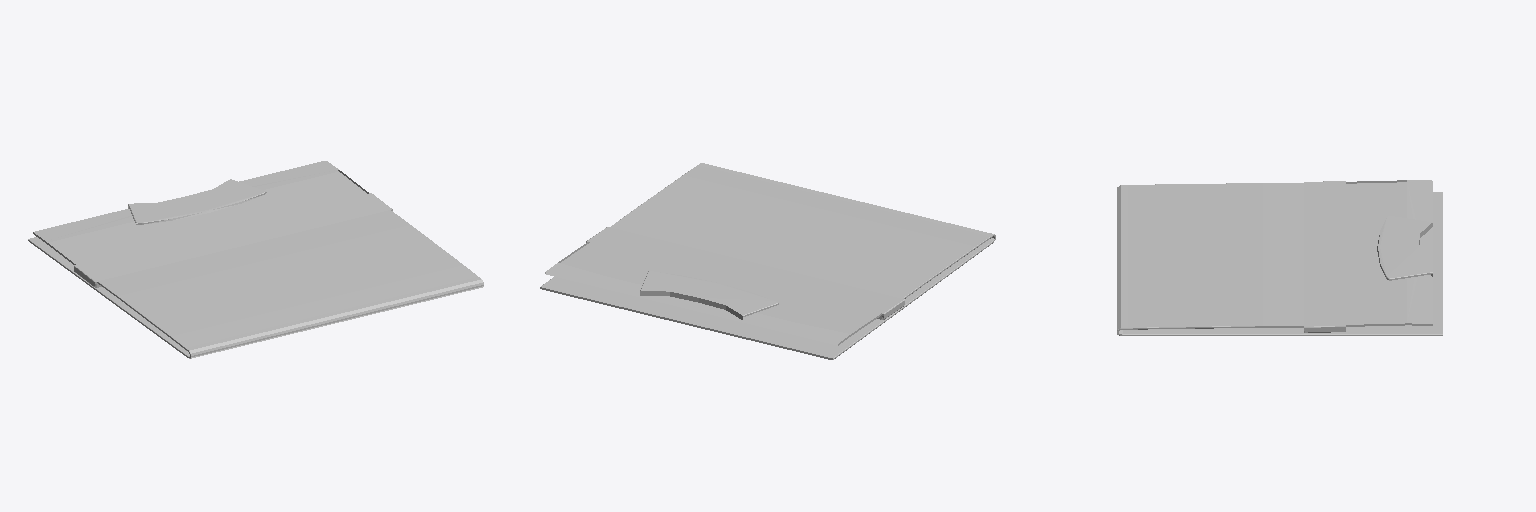
File: tshirt.obj
3 views of the same model, side by side, from view 1: azimuth 30°, elevation 25°; view 2: azimuth 150°, elevation 25°; view 3: azimuth 270°, elevation 25° (orthographic).
Visible parts, largest first — view 1: tshirt; view 2: tshirt; view 3: tshirt.
Part boxes in pixels (x1,y1,x2,y2): tshirt: (28,161,483,358); tshirt: (540,163,995,359); tshirt: (1117,180,1442,335).
Bounding box in the file's own units: 1.99 × 0.1151 × 1.88.